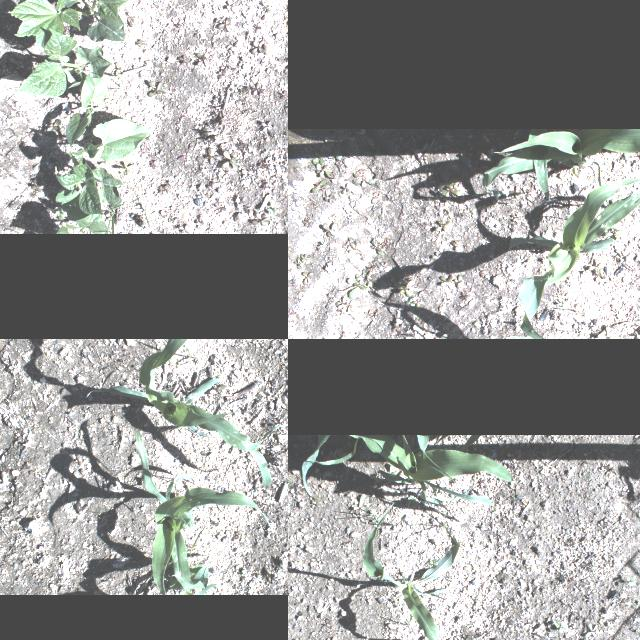crop: (85, 339, 288, 488), (136, 429, 272, 595), (506, 175, 640, 339), (363, 501, 494, 640), (316, 436, 512, 520), (476, 129, 640, 201), (13, 30, 111, 99), (7, 0, 131, 47), (65, 118, 151, 164), (54, 163, 124, 214), (64, 76, 110, 148), (300, 435, 330, 495), (54, 216, 114, 234), (195, 585, 215, 595)
weed: (168, 564, 202, 594), (434, 170, 464, 200), (347, 168, 375, 190), (132, 198, 150, 230), (190, 525, 207, 557), (345, 276, 367, 298), (368, 234, 388, 258), (326, 132, 344, 158), (104, 205, 120, 232), (115, 0, 133, 22), (144, 81, 166, 97), (602, 225, 624, 241), (306, 178, 328, 194), (182, 342, 198, 364), (434, 324, 456, 339), (352, 494, 370, 512), (319, 222, 339, 238), (221, 150, 237, 168), (296, 252, 312, 270), (394, 282, 414, 296), (347, 235, 361, 255), (204, 148, 220, 164), (298, 270, 314, 286), (355, 270, 371, 286), (434, 218, 452, 232), (598, 325, 616, 339), (311, 150, 325, 168), (313, 164, 333, 176), (588, 256, 602, 272), (439, 274, 453, 290), (46, 120, 60, 134), (218, 18, 232, 32), (106, 74, 122, 86), (250, 41, 266, 53), (334, 294, 346, 310), (322, 191, 338, 203), (208, 384, 226, 394), (118, 163, 132, 175), (264, 204, 278, 216), (344, 300, 356, 314), (336, 182, 350, 194), (554, 622, 568, 634), (453, 274, 462, 292), (252, 218, 270, 226), (300, 215, 312, 227), (146, 477, 158, 489), (450, 238, 460, 252), (392, 321, 402, 335), (401, 298, 415, 308), (368, 190, 378, 204), (430, 251, 444, 261), (31, 180, 41, 192), (252, 81, 262, 93), (197, 54, 207, 66), (586, 624, 596, 636), (626, 576, 638, 586), (592, 272, 606, 280), (366, 264, 374, 278), (163, 355, 174, 365), (458, 292, 468, 302), (418, 150, 428, 160), (588, 560, 598, 570), (632, 327, 640, 339), (74, 454, 82, 466), (288, 237, 293, 255), (203, 558, 214, 566), (262, 121, 270, 131), (227, 1, 237, 9), (556, 298, 566, 306), (318, 240, 328, 248), (630, 602, 640, 610), (338, 329, 345, 339), (288, 308, 296, 316), (429, 558, 437, 566), (412, 312, 418, 322), (548, 434, 556, 440), (468, 636, 478, 640), (174, 481, 176, 499), (127, 480, 133, 484), (78, 412, 84, 414)
